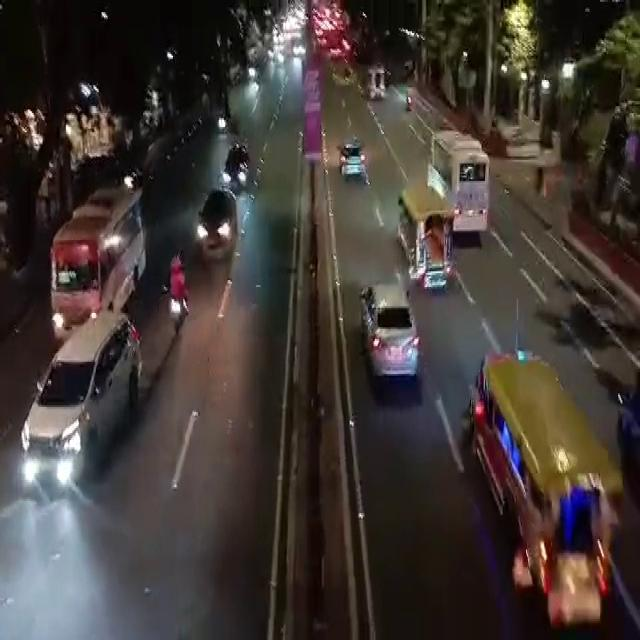bus: (38, 198, 140, 330), (428, 117, 498, 245)
car: (28, 330, 139, 494), (204, 188, 236, 258), (222, 147, 252, 190), (341, 140, 368, 185)
jeepney: (467, 347, 619, 639), (404, 183, 459, 296), (370, 58, 392, 100)
motorcycle: (160, 246, 192, 342)
